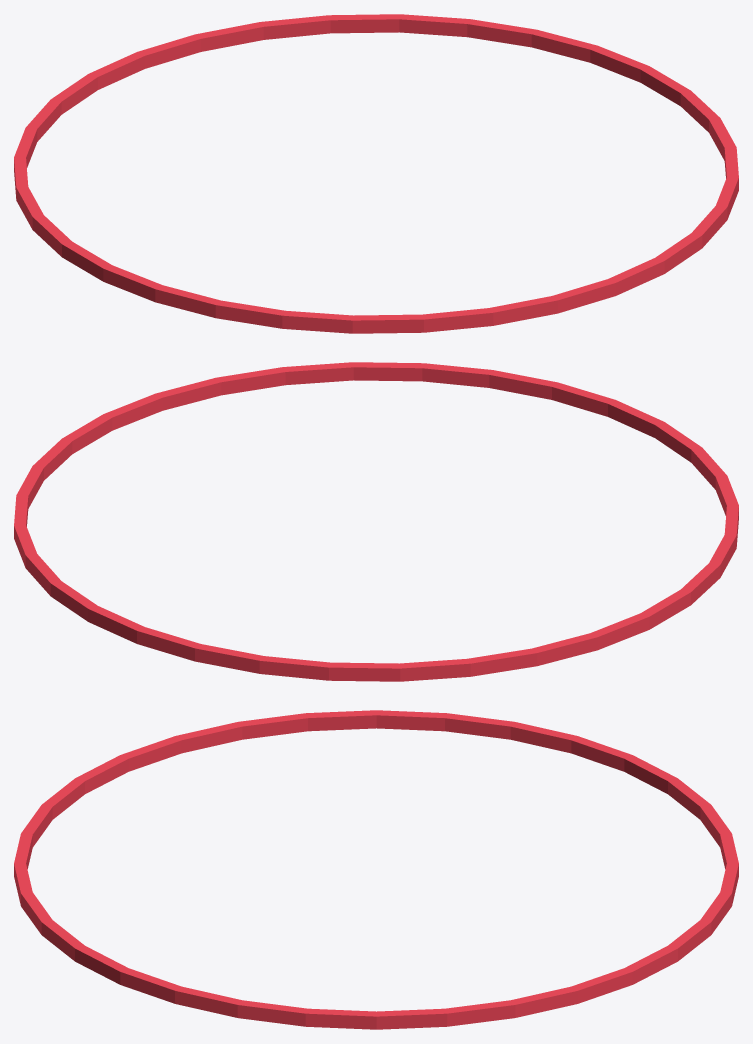
Rendered from territory.obj.
3 views of the same model, one above another, from view 1: azimuth 30°, elevation 25°; view 2: azimuth 150°, elevation 25°; view 3: azimuth 270°, elevation 25° (orthographic).
Parts seen in each view (by area): view 1: 円柱; view 2: 円柱; view 3: 円柱.
Boxes of the visible parts, <box> form: 円柱: <box>14,14,738,333</box>; 円柱: <box>14,362,738,681</box>; 円柱: <box>14,710,738,1029</box>.
Bounding box in the file's own units: 10 × 0.2 × 10.
